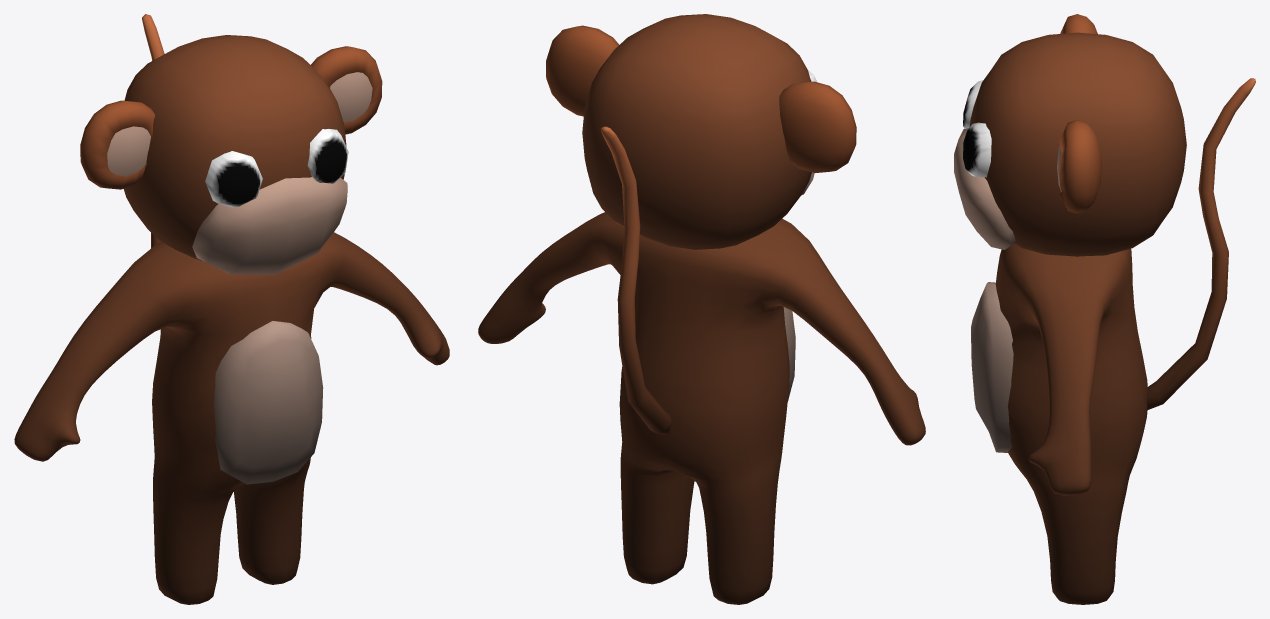
The model's file is monkey.fbx.
The picture shows the model from 3 angles, left to right: view 1: azimuth 30°, elevation 25°; view 2: azimuth 150°, elevation 25°; view 3: azimuth 270°, elevation 25°; orthographic projection. The views are drawn at different scales.
Parts seen in each view (by area): view 1: body.030; view 2: body.030; view 3: body.030.
Part boxes in pixels (box(x1,y1,x2,y2)): body.030: box(14, 14, 449, 604); body.030: box(478, 14, 925, 604); body.030: box(954, 14, 1255, 604).
Bounding box in the file's own units: 85.34 × 103 × 52.85.
